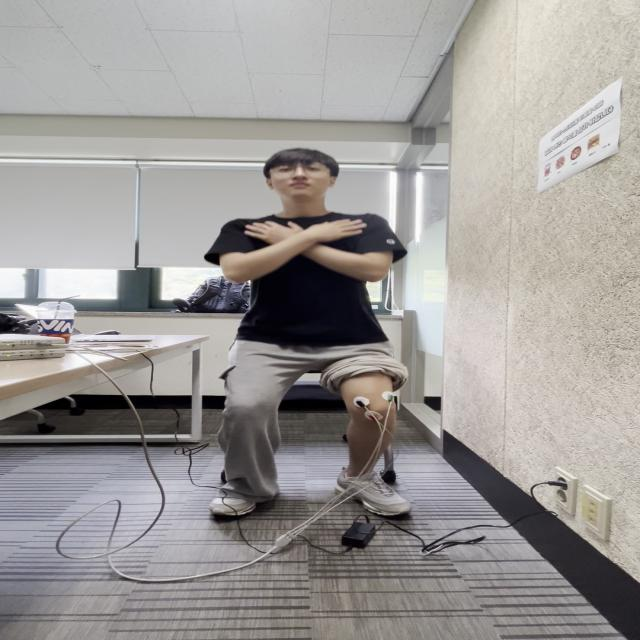stand: (208, 221, 412, 425), (215, 339, 408, 439), (201, 334, 290, 520), (324, 336, 414, 519)
